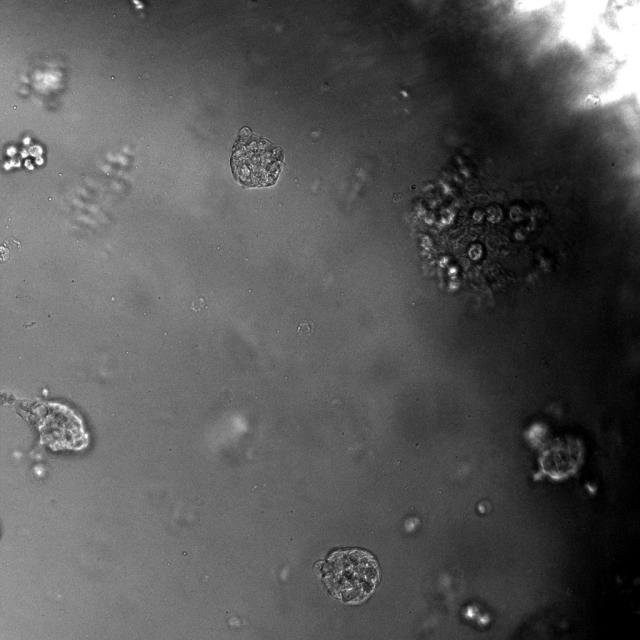organoid: (409, 155, 553, 301), (0, 389, 92, 480), (64, 145, 134, 232), (522, 402, 586, 485), (313, 547, 381, 606), (230, 126, 284, 188), (19, 56, 68, 110), (2, 135, 46, 172), (458, 599, 493, 631), (0, 237, 22, 263), (403, 515, 421, 534), (128, 0, 146, 19), (475, 498, 492, 515)
